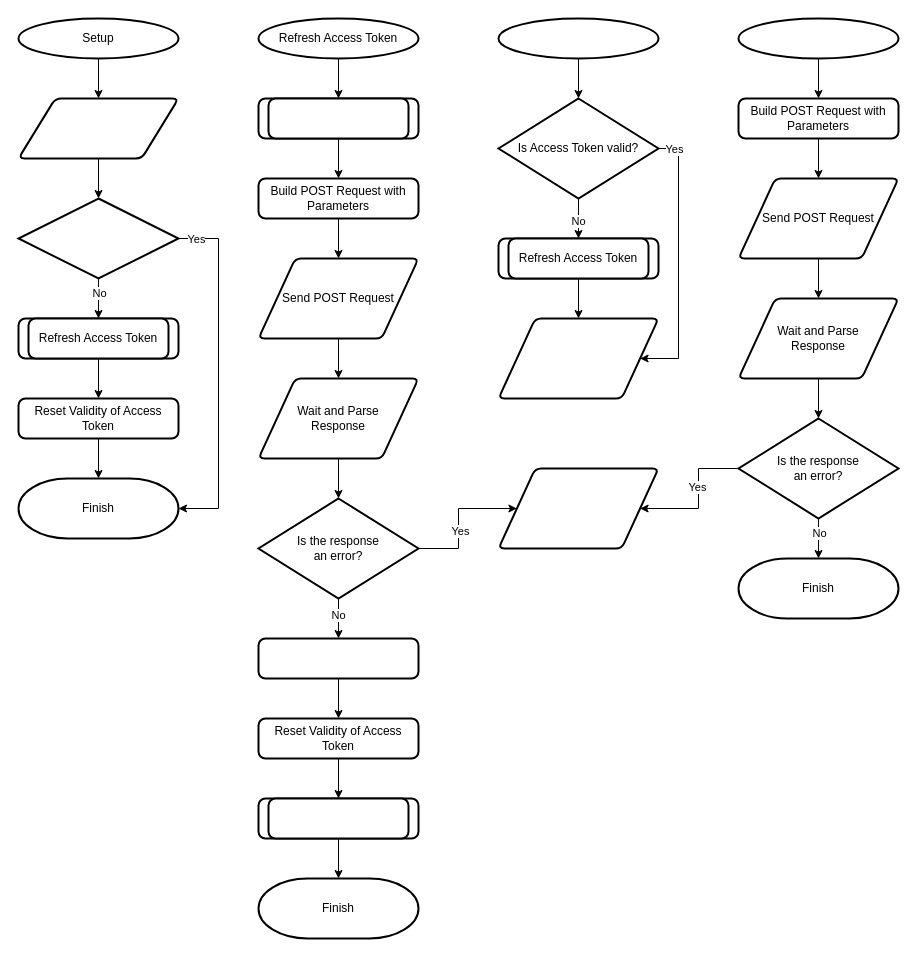
Some shapes in this 916 by 956 pixel diagram are drawn without their labels. Here are the shapes that lost their labels. From the top down, the box of each, then its label:
(497, 17, 659, 59): Provide Auth. Header
(737, 17, 899, 59): Revoke Token
(17, 97, 179, 159): Read refresh token (and optional access token)
(267, 97, 409, 139): Start Async Revoke Access Token
(17, 197, 179, 279): Is access token provided?
(497, 317, 659, 399): Return Auth. Header with Encoded Token
(497, 467, 659, 549): Throw Exception
(257, 637, 419, 679): Set new Access Token
(267, 797, 409, 839): Wait Revoke Access Token
